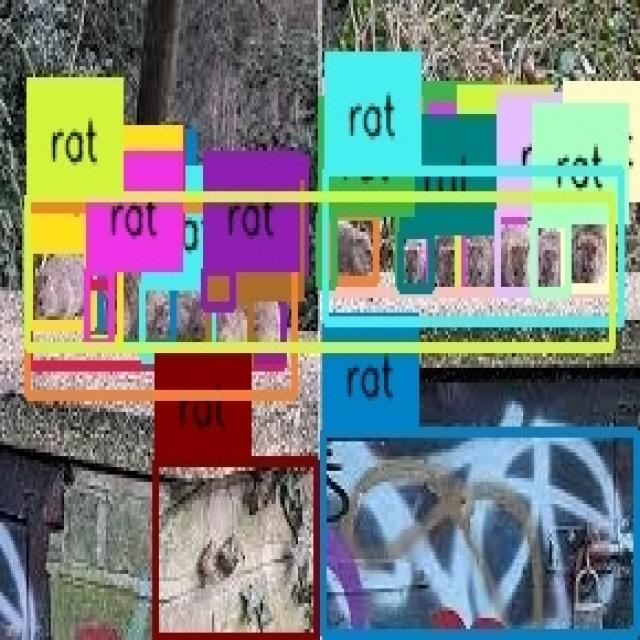rat: (29, 198, 611, 349), (323, 430, 637, 636), (27, 210, 296, 397), (326, 171, 621, 322), (30, 243, 284, 364), (154, 462, 316, 638), (324, 199, 612, 294), (399, 199, 612, 294), (100, 250, 173, 346), (213, 276, 284, 360), (143, 285, 212, 359), (30, 248, 94, 326), (564, 200, 610, 289), (458, 204, 498, 293), (86, 243, 121, 342), (328, 217, 376, 280), (498, 212, 535, 292), (208, 300, 252, 366), (534, 220, 567, 290), (430, 224, 462, 290), (401, 232, 432, 290), (86, 270, 110, 344), (90, 243, 120, 283), (204, 270, 233, 307), (319, 215, 334, 285)
